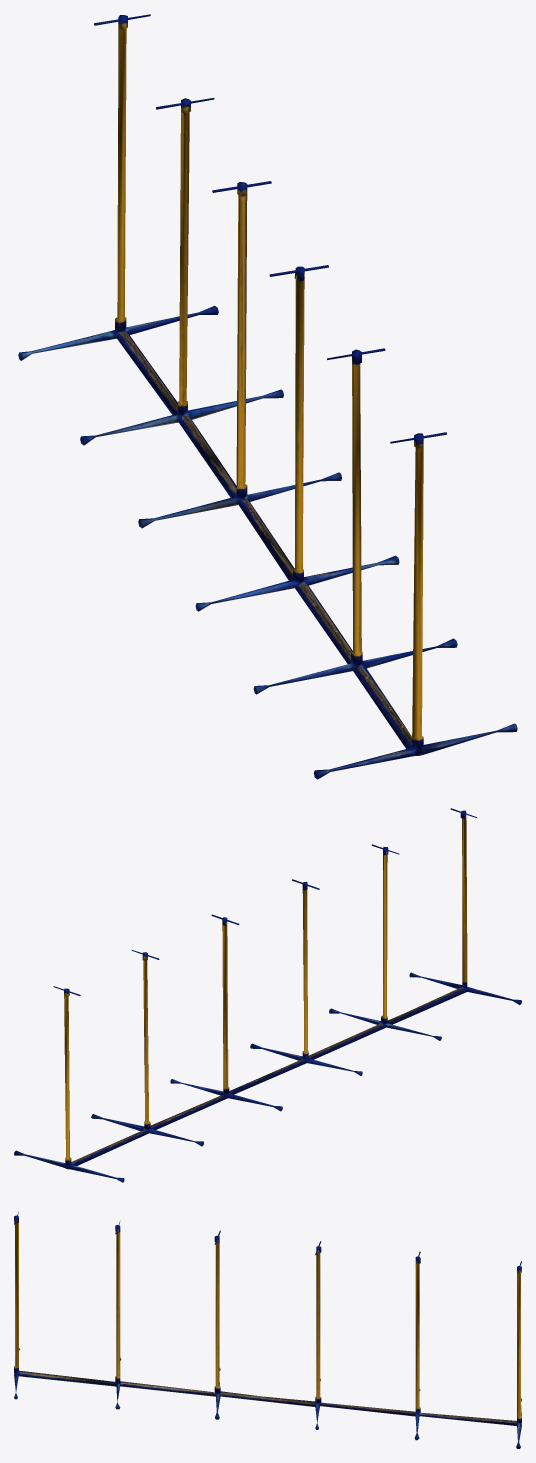
File: weavepoles.glb
3 views of the same model, one above another, from view 1: azimuth 30°, elevation 25°; view 2: azimuth 150°, elevation 25°; view 3: azimuth 270°, elevation 25° (orthographic). The views are drawn at different scales.
Visible parts, largest first — view 1: tripo_node_ce8f6cc6-455c-4462-9428-524fad4b09ab; view 2: tripo_node_ce8f6cc6-455c-4462-9428-524fad4b09ab; view 3: tripo_node_ce8f6cc6-455c-4462-9428-524fad4b09ab.
Part boxes in pixels (box(x1,y1,x2,y2)): tripo_node_ce8f6cc6-455c-4462-9428-524fad4b09ab: box(18, 14, 517, 779); tripo_node_ce8f6cc6-455c-4462-9428-524fad4b09ab: box(14, 808, 521, 1182); tripo_node_ce8f6cc6-455c-4462-9428-524fad4b09ab: box(14, 1211, 521, 1448).
Size of the model in its own units: 1.39 by 1.06 by 3.05.
1 material, 1 textured.
